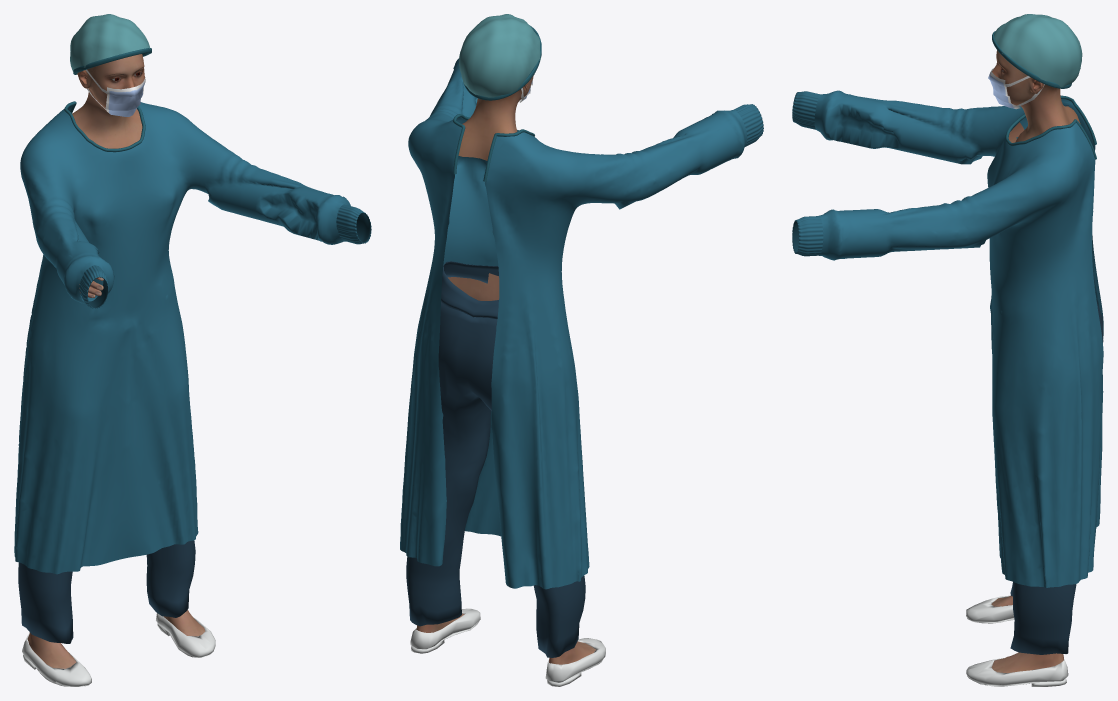
The model's file is paso-4.glb.
3 views of the same model, side by side, from view 1: azimuth 30°, elevation 25°; view 2: azimuth 150°, elevation 25°; view 3: azimuth 270°, elevation 25° (orthographic).
Visible parts, largest first — view 1: v2-gown, Human.toigo_wool_pants-static, Human-static, surgical-cap, Human.toigo_flats-static, v2-cuff-L, Human.joepal_medical_mouth_protection-static, v2-cuff-R, v2-neck-binding; view 2: v2-gown, Human.toigo_wool_pants-static, surgical-cap, Human-static, Human.toigo_flats-static, v2-cuff-R, v2-neck-binding; view 3: v2-gown, Human-static, surgical-cap, Human.toigo_wool_pants-static, Human.toigo_flats-static, v2-cuff-L, v2-cuff-R, v2-neck-binding, Human.joepal_medical_mouth_protection-static.
Boxes of the visible parts, bbox=[...] form: v2-gown: bbox=[14, 102, 350, 574]; Human.toigo_wool_pants-static: bbox=[18, 540, 195, 643]; Human-static: bbox=[27, 54, 205, 668]; surgical-cap: bbox=[70, 14, 150, 71]; Human.toigo_flats-static: bbox=[22, 613, 215, 686]; v2-cuff-L: bbox=[336, 204, 371, 244]; Human.joepal_medical_mouth_protection-static: bbox=[85, 69, 145, 116]; v2-cuff-R: bbox=[79, 265, 108, 308]; v2-neck-binding: bbox=[64, 101, 145, 152]; v2-gown: bbox=[400, 58, 747, 589]; Human.toigo_wool_pants-static: bbox=[406, 261, 585, 657]; surgical-cap: bbox=[459, 14, 540, 97]; Human-static: bbox=[416, 75, 595, 664]; Human.toigo_flats-static: bbox=[410, 608, 605, 686]; v2-cuff-R: bbox=[733, 104, 763, 146]; v2-neck-binding: bbox=[453, 114, 534, 181]; v2-gown: bbox=[814, 90, 1103, 587]; Human-static: bbox=[991, 50, 1080, 673]; surgical-cap: bbox=[994, 14, 1082, 87]; Human.toigo_wool_pants-static: bbox=[1010, 301, 1103, 654]; Human.toigo_flats-static: bbox=[966, 595, 1068, 686]; v2-cuff-L: bbox=[792, 216, 823, 256]; v2-cuff-R: bbox=[792, 91, 820, 129]; v2-neck-binding: bbox=[1005, 95, 1096, 159]; Human.joepal_medical_mouth_protection-static: bbox=[988, 68, 1044, 109].
Bounding box in the file's own units: 0.8095 × 1.7 × 0.7611.
Materials: 18 (9 with a texture image).
